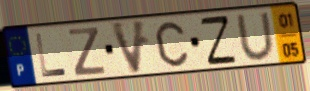C: (153, 20, 190, 69)
L: (34, 31, 70, 79)
U: (234, 10, 278, 63)
V: (108, 19, 148, 77)
Z: (198, 13, 239, 67), (67, 25, 108, 78)
